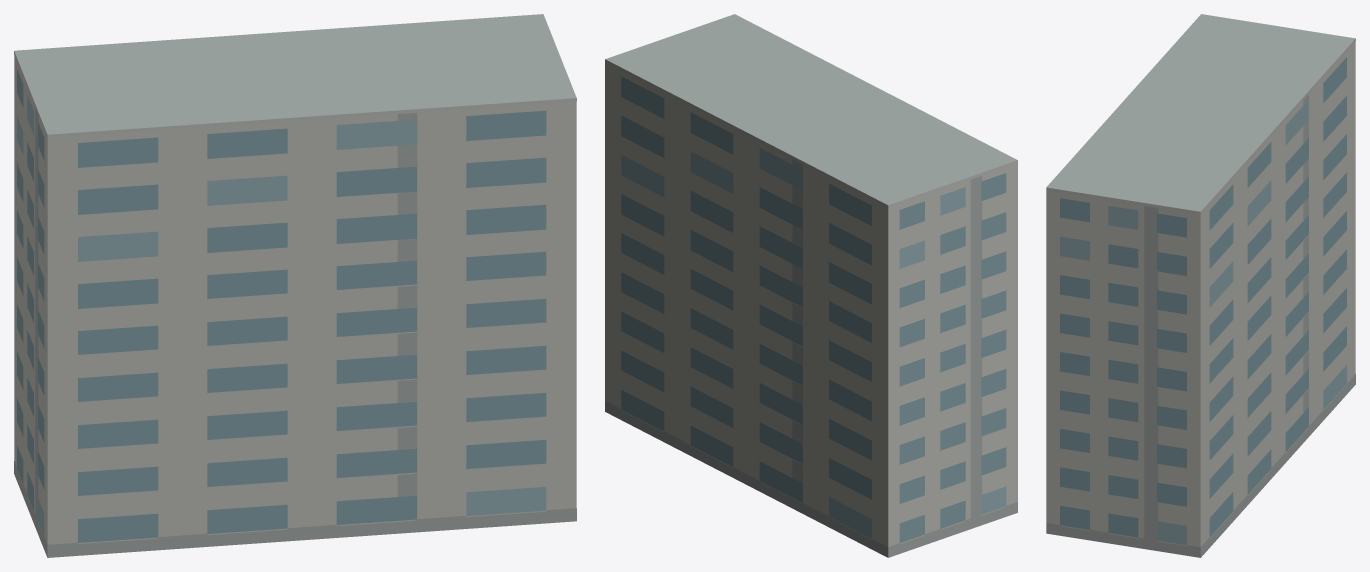
The model's file is survey-upis-32529235.glb.
3 renders of one model, left to right at view 1: azimuth 30°, elevation 25°; view 2: azimuth 150°, elevation 25°; view 3: azimuth 270°, elevation 25°, orthographic. The views are drawn at different scales.
Visible parts, largest first — view 1: survey-upis-32529235.tmp; view 2: survey-upis-32529235.tmp; view 3: survey-upis-32529235.tmp.
Boxes of the visible parts, x1,y1,x2,y2 form: survey-upis-32529235.tmp: [14, 14, 576, 557]; survey-upis-32529235.tmp: [605, 14, 1017, 557]; survey-upis-32529235.tmp: [1046, 14, 1355, 557].
Bounding box in the file's own units: 34.21 × 27.9 × 22.63.
